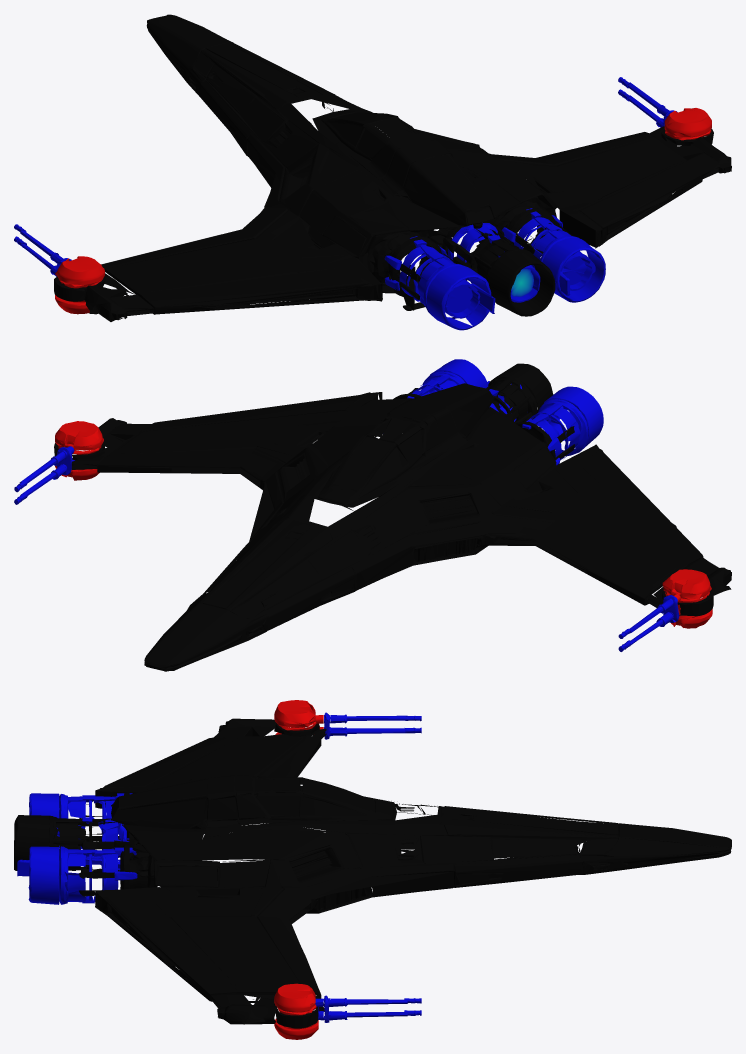
Rendered from silverwing.glb.
The picture shows the model from 3 angles, top to bottom: view 1: azimuth 30°, elevation 25°; view 2: azimuth 150°, elevation 25°; view 3: azimuth 270°, elevation 25°; orthographic projection. The views are drawn at different scales.
Visible parts, largest first — view 1: hull, engine_0, engine_2, canopy, engine_1, turret_0_base, turret_1_base, turret_1_barrel, turret_0_barrel; view 2: hull, canopy, engine_0, turret_0_base, turret_1_base, engine_2, turret_1_barrel, turret_0_barrel; view 3: hull, engine_2, canopy, engine_0, turret_1_base, turret_1_barrel, turret_0_barrel, turret_0_base, engine_1.
Part boxes in pixels (x1,y1,x2,y2): hull: (54,14,731,321); engine_0: (384,236,495,330); engine_2: (501,208,605,302); canopy: (203,46,371,134); engine_1: (444,222,540,318); turret_0_base: (55,256,104,314); turret_1_base: (664,108,711,140); turret_1_barrel: (618,77,676,127); turret_0_barrel: (14,224,71,276); hull: (54,363,731,671); canopy: (200,465,380,608); engine_0: (522,386,603,465); turret_0_base: (662,569,712,628); turret_1_base: (55,421,103,480); engine_2: (407,359,489,398); turret_1_barrel: (14,446,74,504); turret_0_barrel: (618,595,679,651); hull: (14,718,731,1028); engine_2: (17,846,137,904); canopy: (345,791,612,839); engine_0: (29,793,132,849); turret_1_base: (274,983,318,1039); turret_1_barrel: (315,995,421,1022); turret_0_barrel: (324,712,421,739); turret_0_base: (274,700,323,734); engine_1: (59,808,129,868).
Size of the model in its own units: 16.07 by 3.45 by 16.
